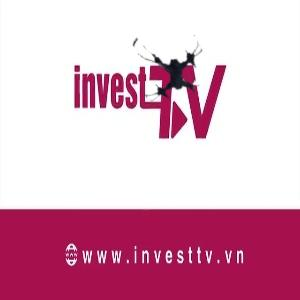drone: (127, 24, 211, 108)
